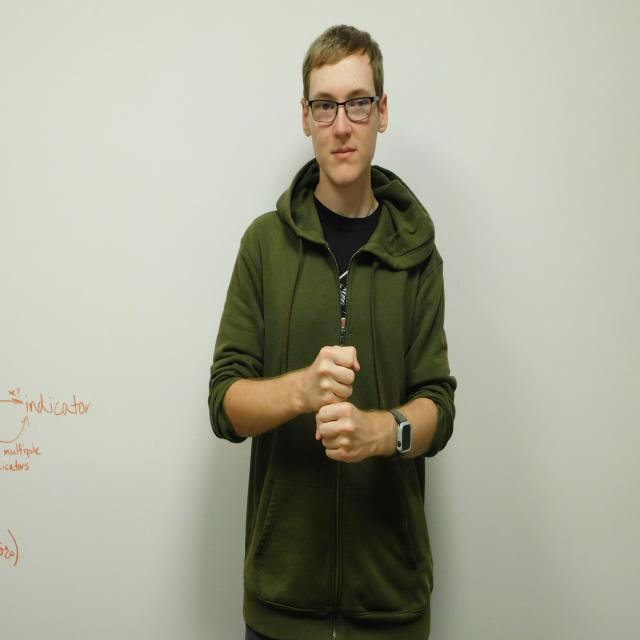get: (310, 346, 364, 464)
